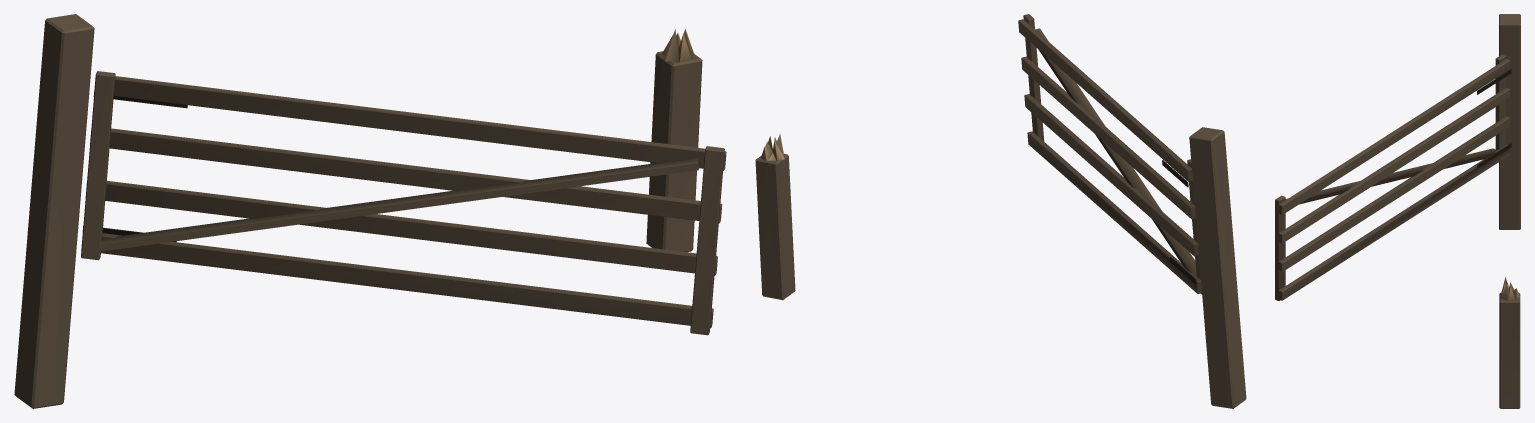
Rendered from track_old_gate.glb.
3 renders of one model, left to right at view 1: azimuth 30°, elevation 25°; view 2: azimuth 150°, elevation 25°; view 3: azimuth 270°, elevation 25°, orthographic. The views are drawn at different scales.
Visible parts, largest first — view 1: track_old_gate_leaf_LOD0, track_old_gate_posts_LOD0; view 2: track_old_gate_posts_LOD0, track_old_gate_leaf_LOD0; view 3: track_old_gate_leaf_LOD0, track_old_gate_posts_LOD0.
Boxes of the visible parts, box(x1,y1,x2,y2) form: track_old_gate_leaf_LOD0: box(81, 71, 726, 335); track_old_gate_posts_LOD0: box(14, 14, 702, 408); track_old_gate_posts_LOD0: box(755, 127, 1246, 408); track_old_gate_leaf_LOD0: box(1018, 14, 1201, 294); track_old_gate_leaf_LOD0: box(1275, 54, 1511, 300); track_old_gate_posts_LOD0: box(1499, 14, 1520, 408).
Size of what is drawn, in the model's own units: 3.68 by 1.96 by 2.01.
